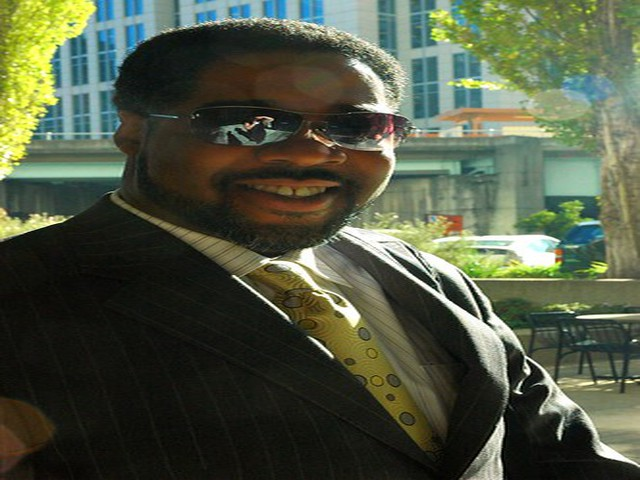Person: (14, 18, 581, 467)
